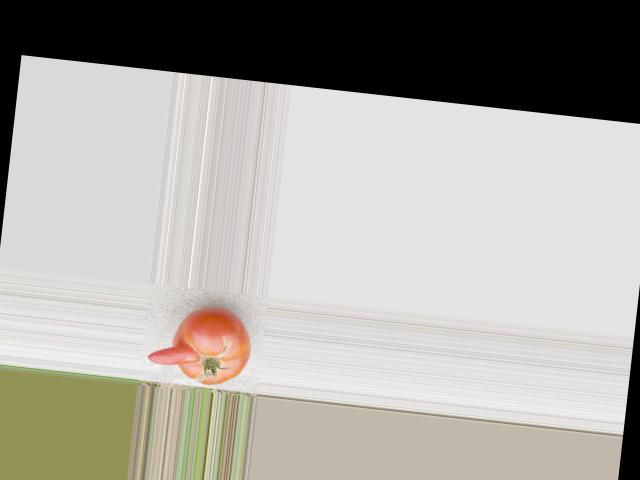tomato: (168, 304, 255, 388)
